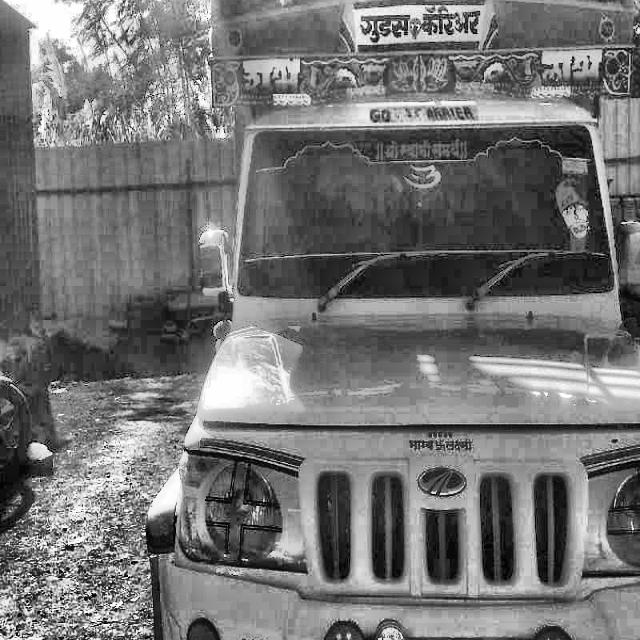light_vehicle: (147, 35, 640, 640)
